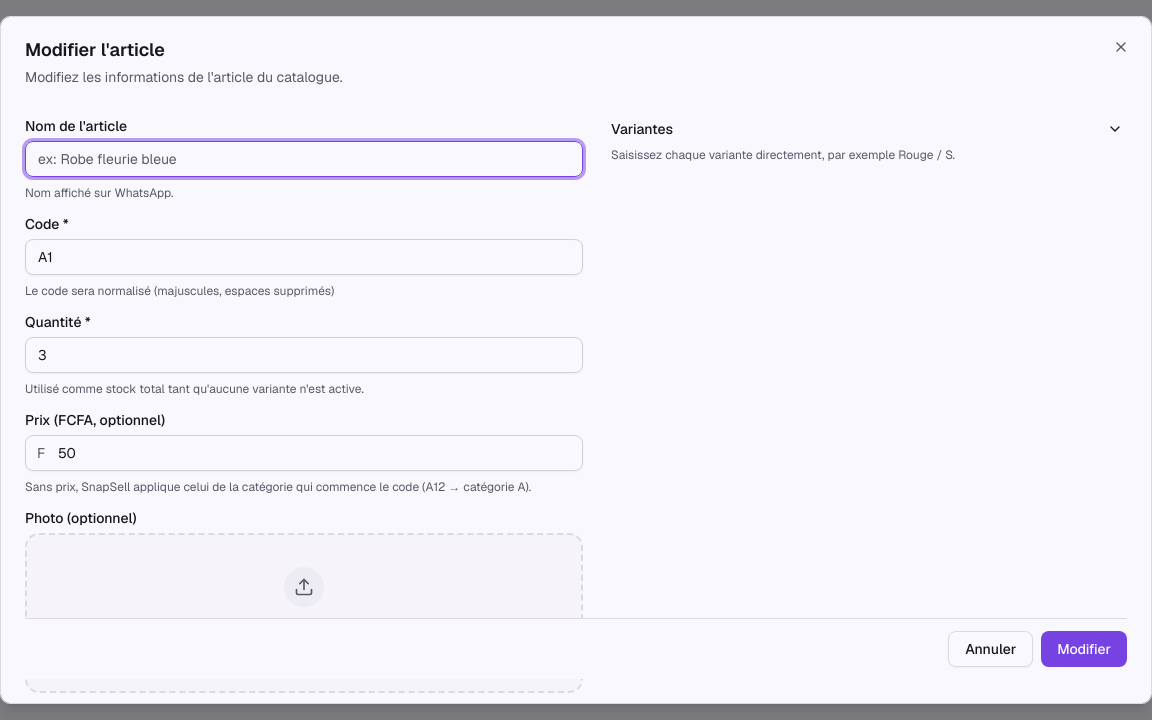
Test: CatalogueItemFormDialog › opens the variants section in edit mode
Step 1. Click the button "Variantes" → (642, 129), box [607,119,1127,139]
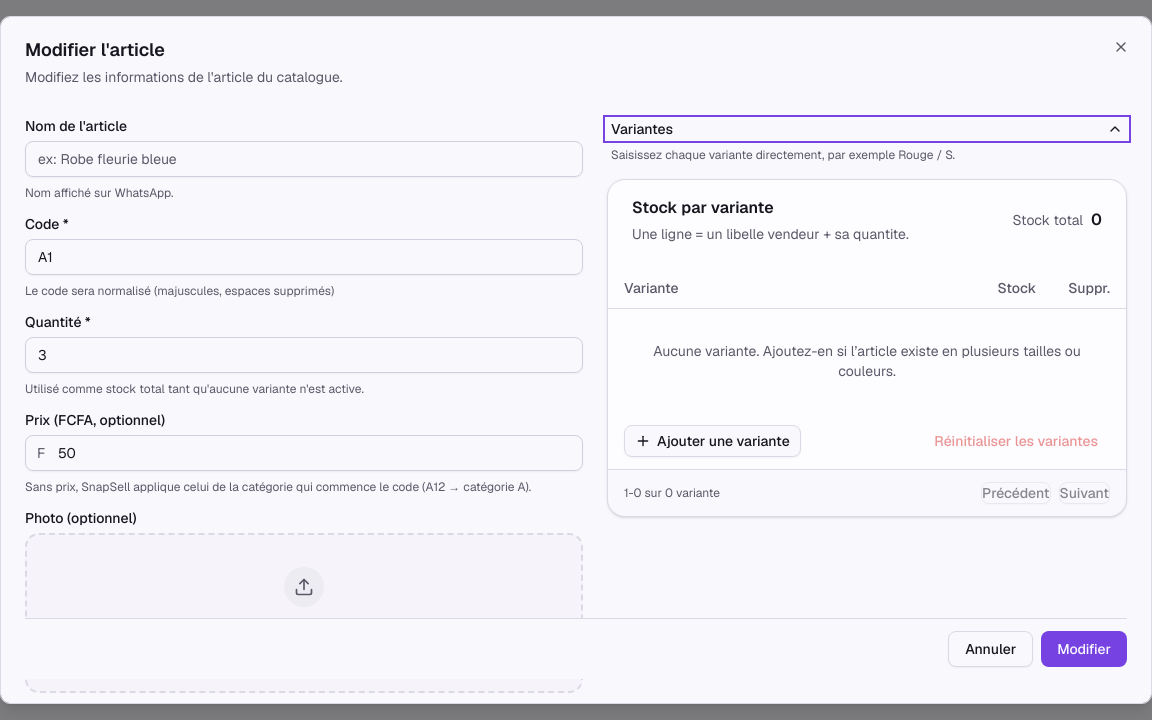
Result: the text "Stock par variante" is shown at [632,197,774,218]
